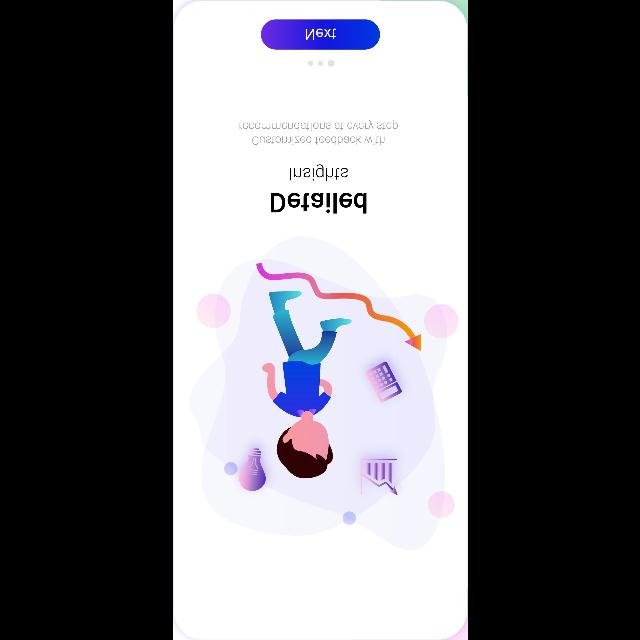image: (188, 235, 458, 550)
pageindicator: (308, 60, 334, 66)
text: (238, 120, 398, 146), (270, 192, 366, 214), (289, 164, 347, 182)
textbutton: (260, 20, 380, 50)
